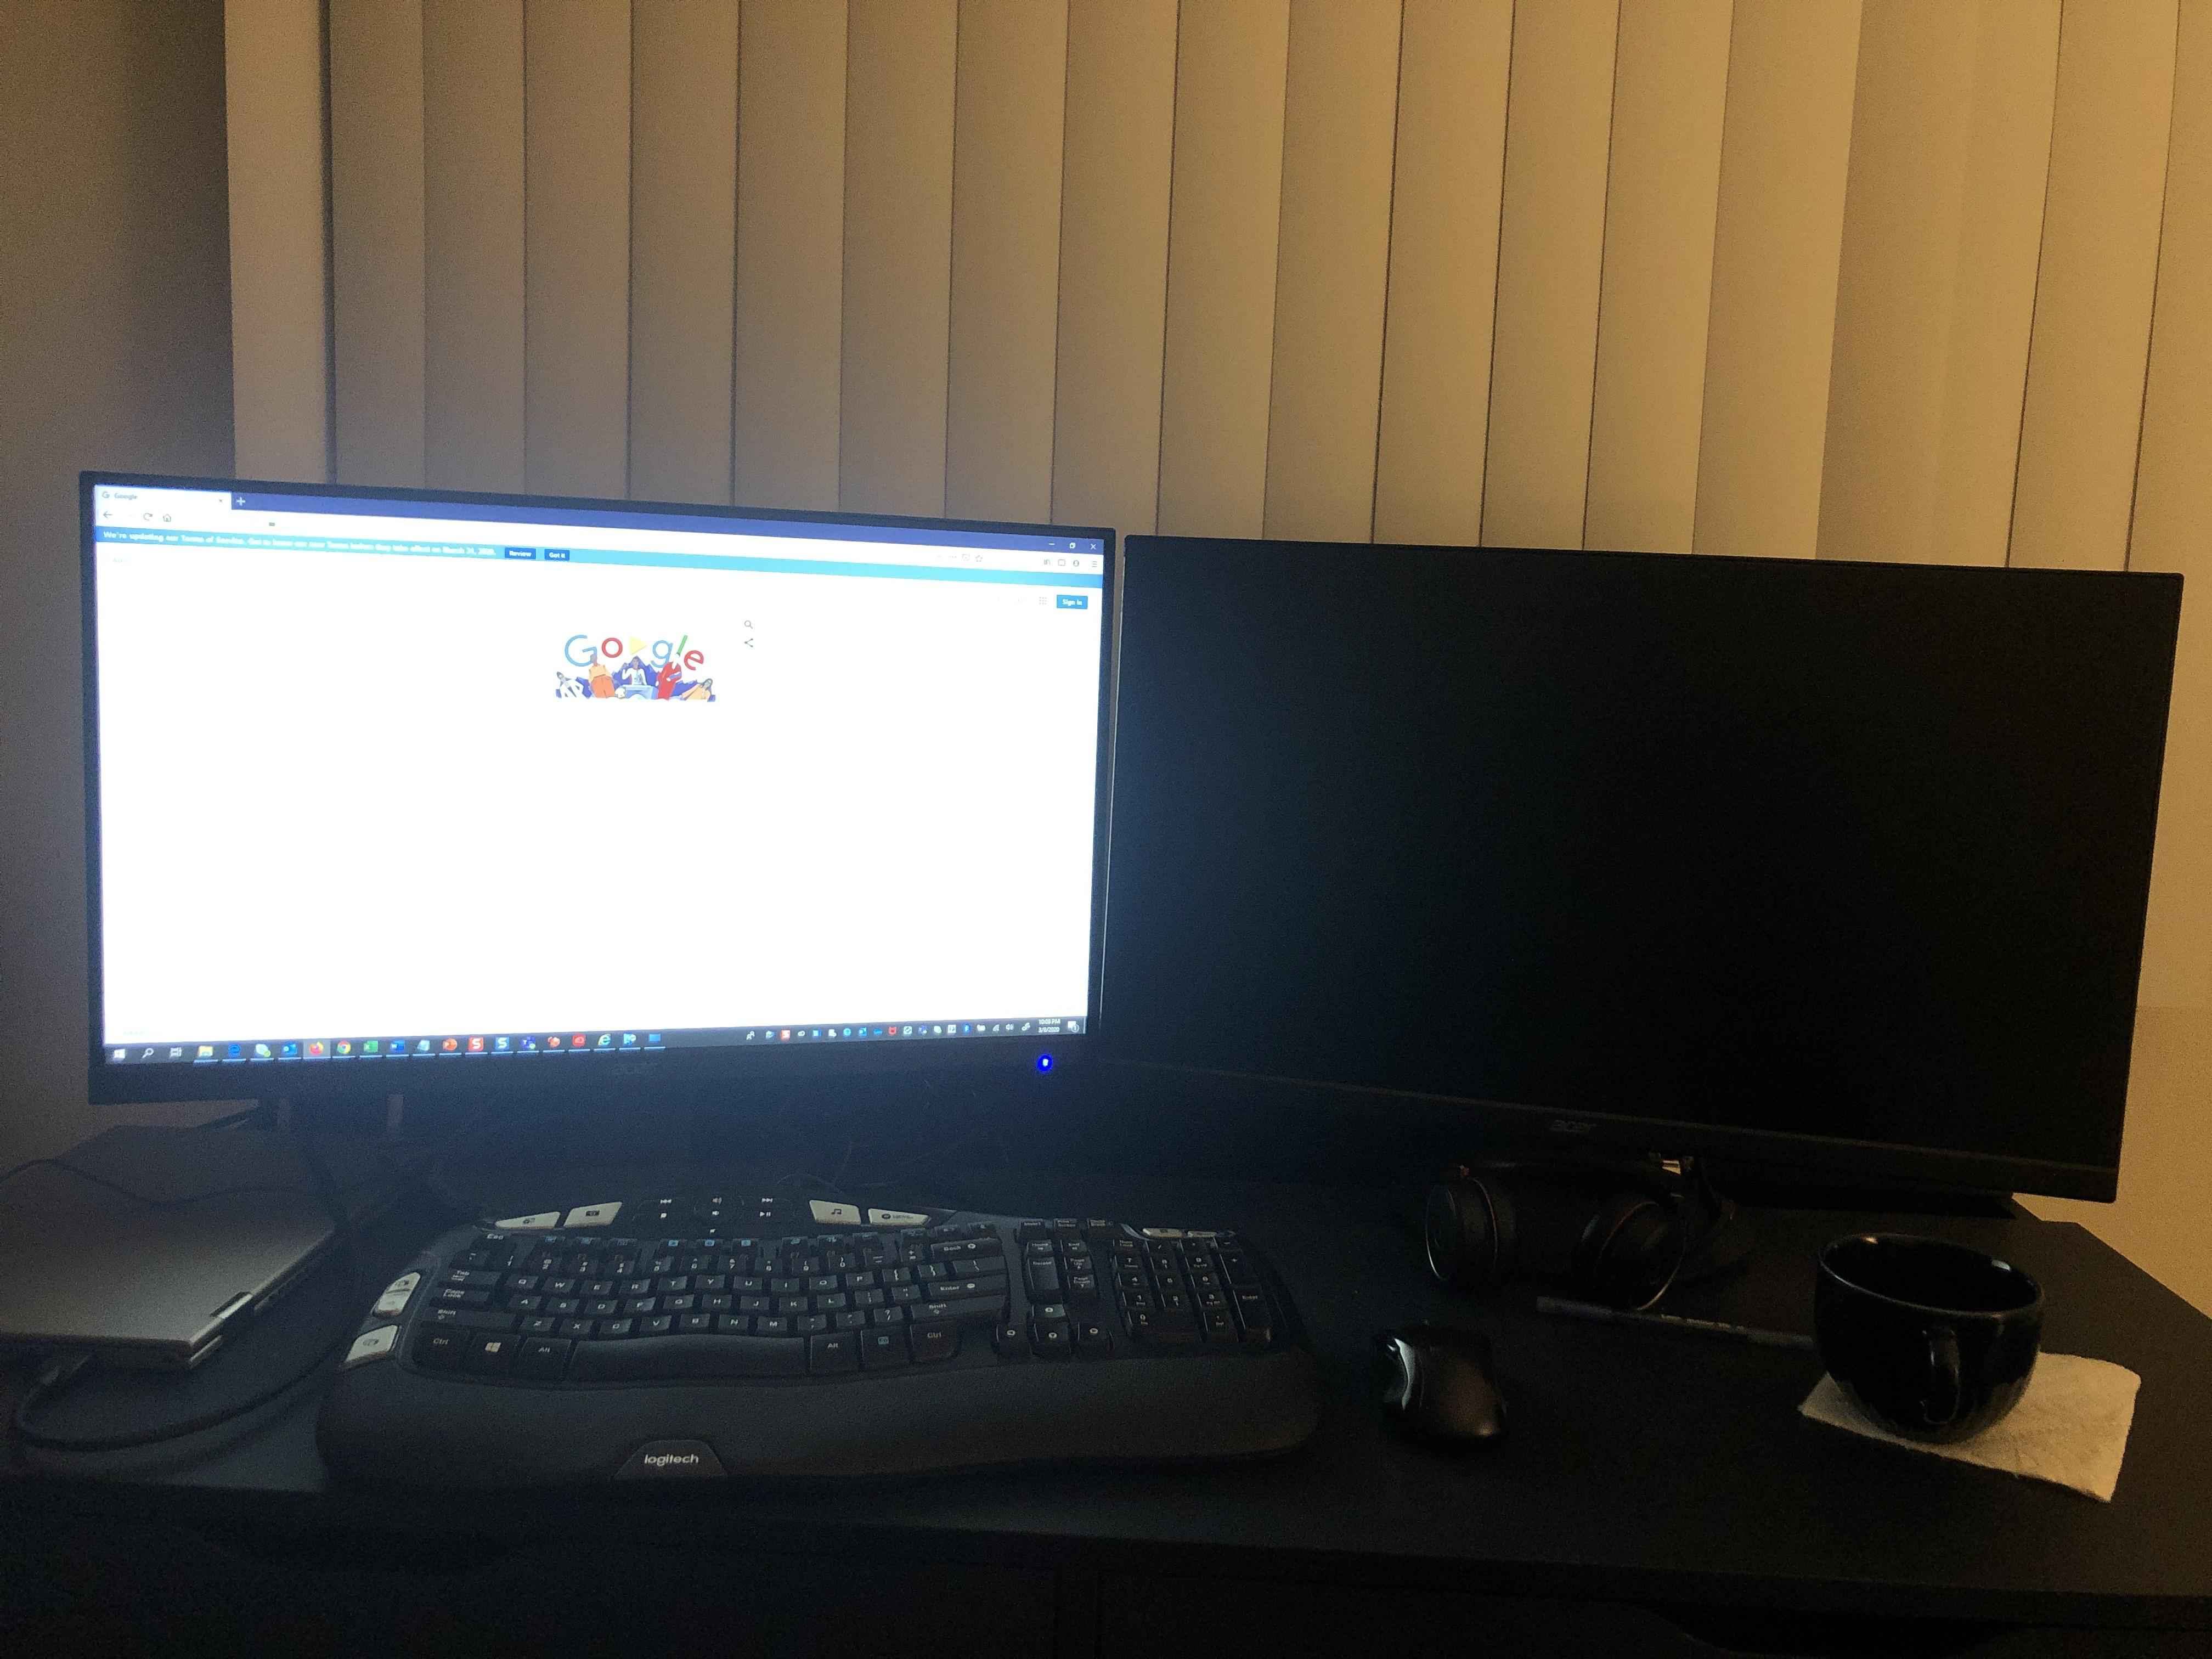Desk (Generic): (0, 1215, 2212, 1659)
Headphones: (1421, 1152, 1737, 1314)
Keyboard (Ergonomic): (312, 1188, 1331, 1500)
Laptop (Windows): (0, 1121, 428, 1377)
Monitor (Landscape): (1108, 533, 2184, 1206), (80, 467, 1118, 1129)
Mouse (Ergonomic): (1369, 1321, 1507, 1445)
Mug: (1811, 1230, 2050, 1446)
